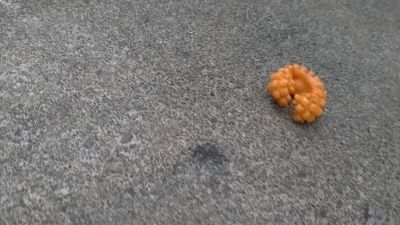eggs: (268, 63, 327, 126)
